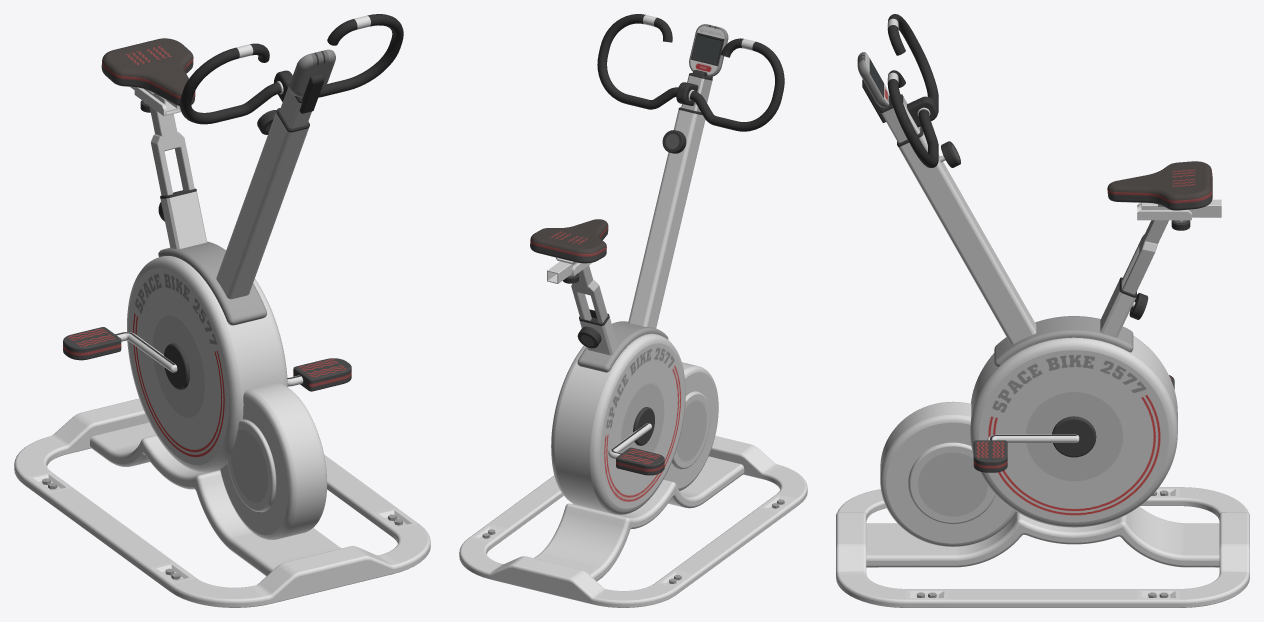
File: excercisebike.glb
3 views of the same model, side by side, from view 1: azimuth 30°, elevation 25°; view 2: azimuth 150°, elevation 25°; view 3: azimuth 270°, elevation 25° (orthographic). The views are drawn at different scales.
Visible parts, largest first — view 1: SC20GYMA1 Bike V01_20186_dup_5.Shape; view 2: SC20GYMA1 Bike V01_20186_dup_5.Shape; view 3: SC20GYMA1 Bike V01_20186_dup_5.Shape.
Part boxes in pixels (x1,y1,x2,y2): SC20GYMA1 Bike V01_20186_dup_5.Shape: (14, 14, 430, 607); SC20GYMA1 Bike V01_20186_dup_5.Shape: (459, 14, 807, 607); SC20GYMA1 Bike V01_20186_dup_5.Shape: (836, 14, 1249, 607).
Size of the model in its own units: 2.78 by 5.67 by 4.23.
Materials: 1 (1 with a texture image).
